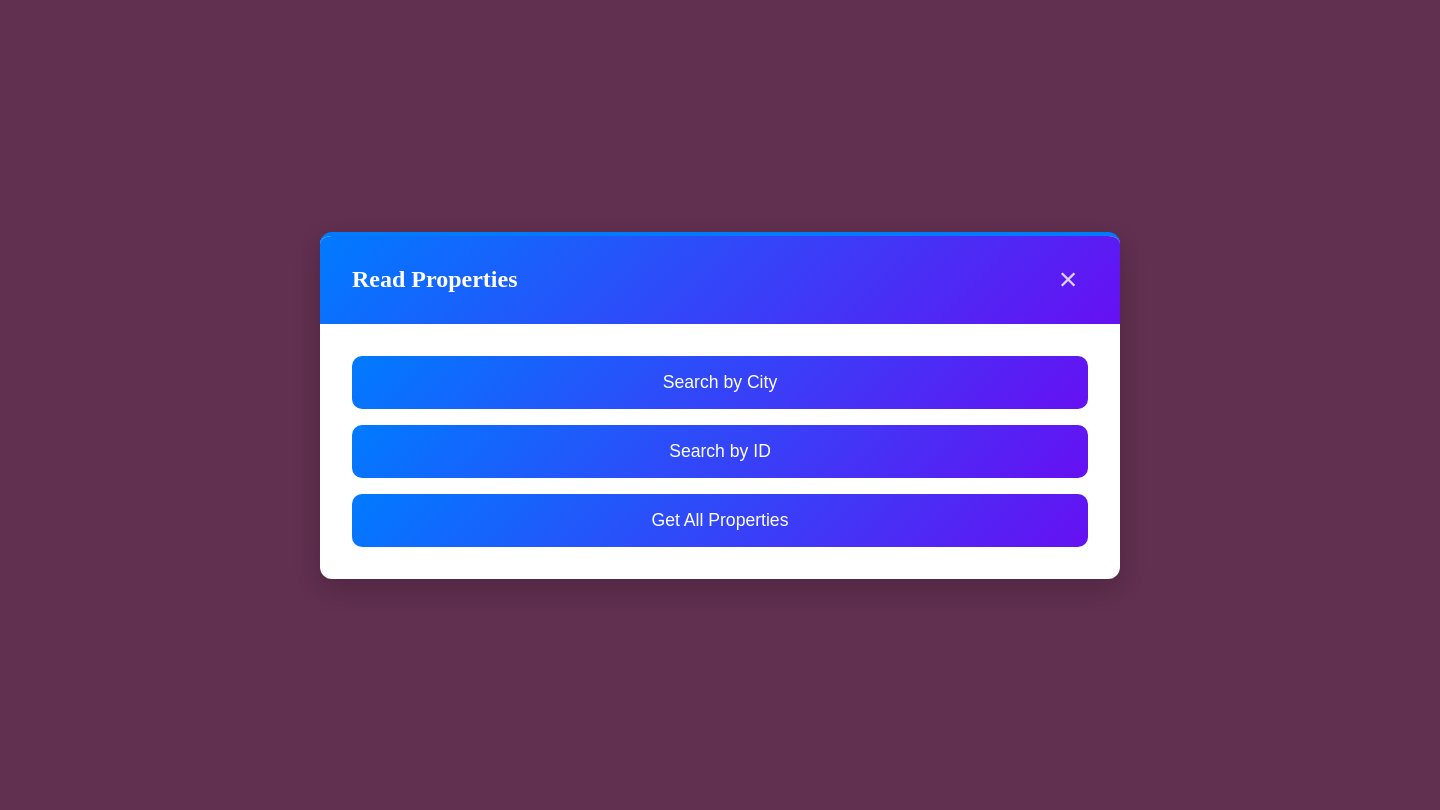
Simulating user click › prompts property id when "Search by ID" button is clicked
Click the button "Search by ID": (720, 451) [352, 424, 1088, 478]
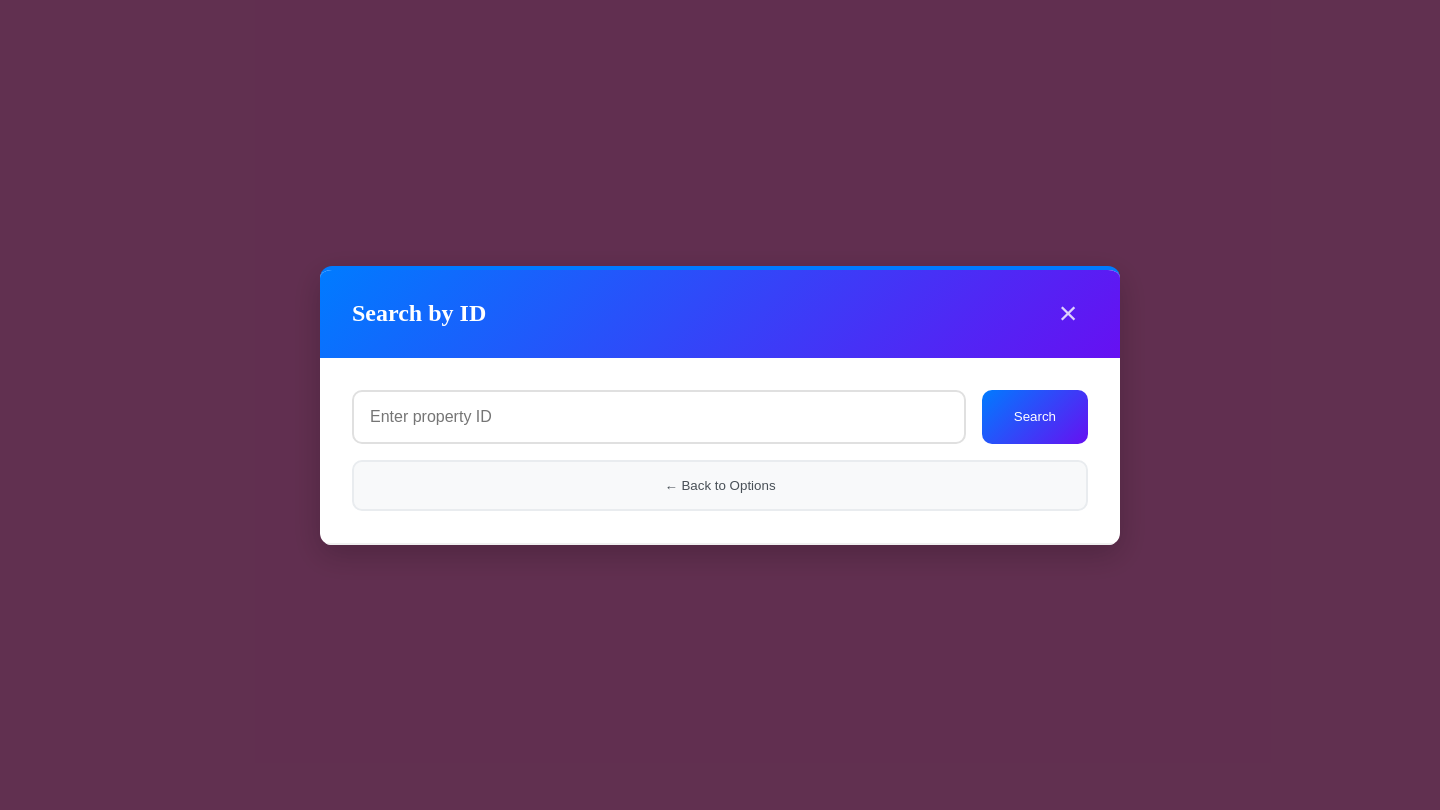
Expected: the number field with placeholder "Enter property ID" is shown, [352, 390, 966, 444]
